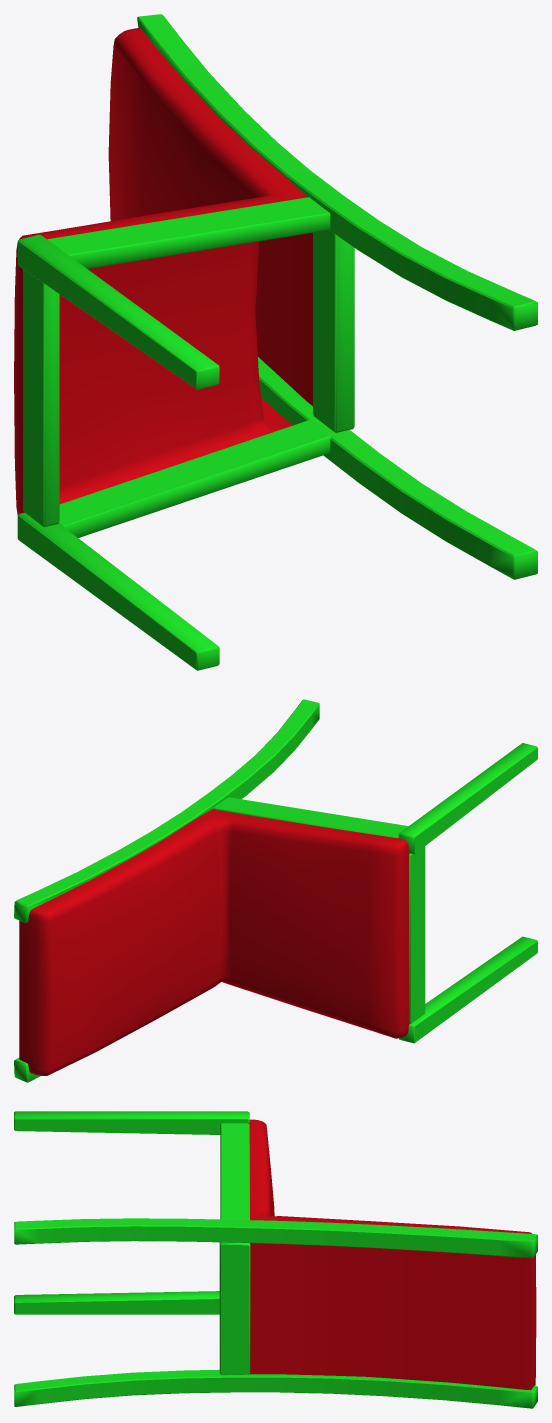
File: kitchen_chair_1.FBX
The picture shows the model from 3 angles, top to bottom: view 1: azimuth 30°, elevation 25°; view 2: azimuth 150°, elevation 25°; view 3: azimuth 270°, elevation 25°; orthographic projection. The views are drawn at different scales.
Visible parts, largest first — view 1: wood; view 2: wood; view 3: wood.
Boxes of the visible parts, x1,y1,x2,y2 form: wood: (14,14,537,670); wood: (14,699,537,1082); wood: (14,1111,537,1408).
Bounding box in the file's own units: 52.81 × 41.8 × 101.
